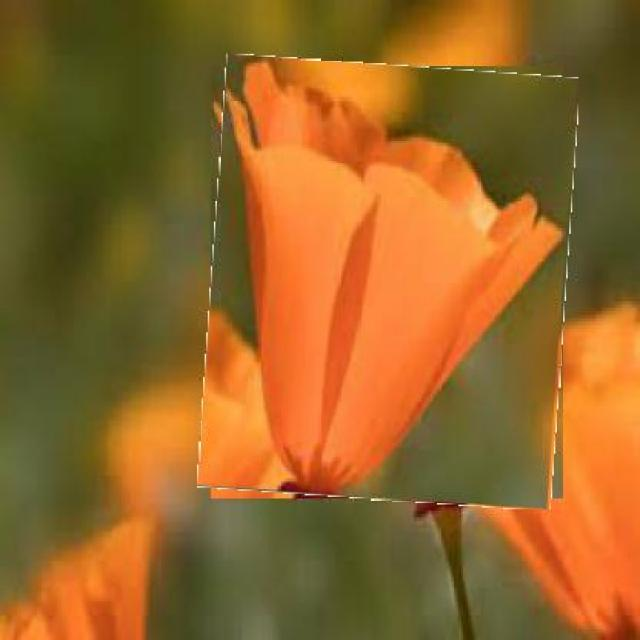Flower: (204, 60, 573, 506)
